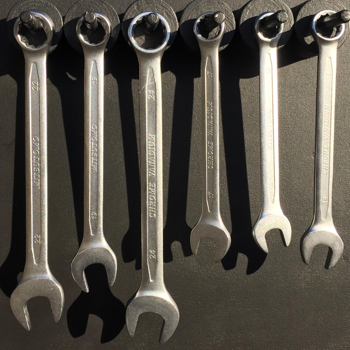bottom: (123, 288, 181, 347), (7, 275, 66, 332), (69, 243, 120, 296), (298, 224, 345, 272), (187, 219, 233, 265), (251, 212, 293, 257)
top: (126, 9, 173, 56), (10, 10, 57, 55), (73, 11, 114, 50), (309, 7, 348, 45), (191, 9, 228, 47), (253, 10, 287, 47)
